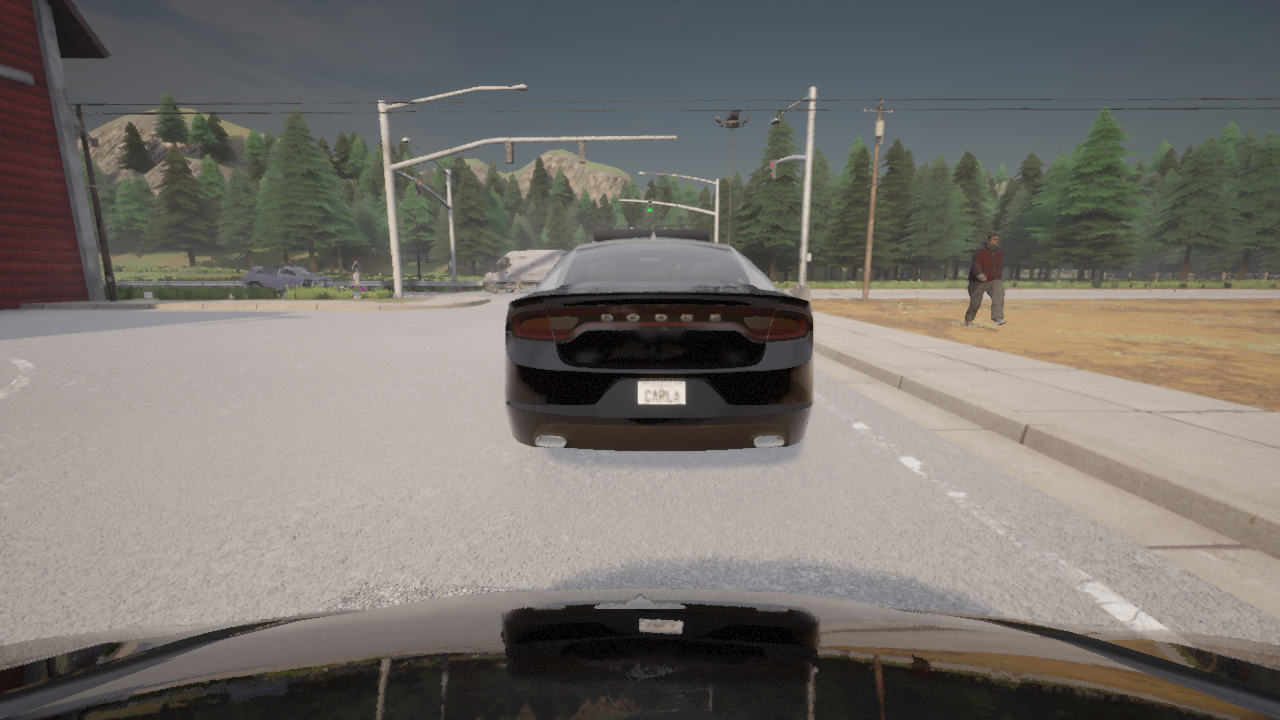cyclist: (0, 588, 1279, 719), (505, 227, 813, 451), (481, 249, 568, 293), (242, 266, 343, 294)
pedestrian: (963, 234, 1006, 327), (347, 257, 366, 292), (515, 277, 520, 298)
